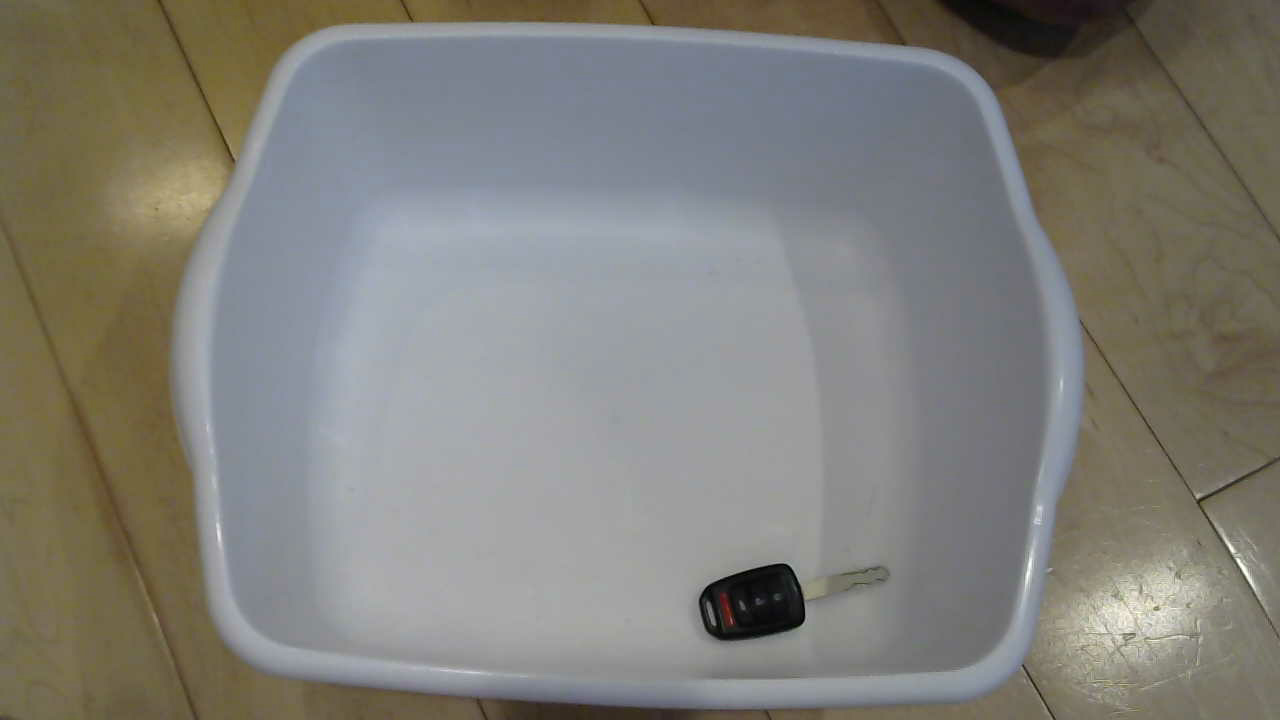key: (684, 555, 910, 651)
